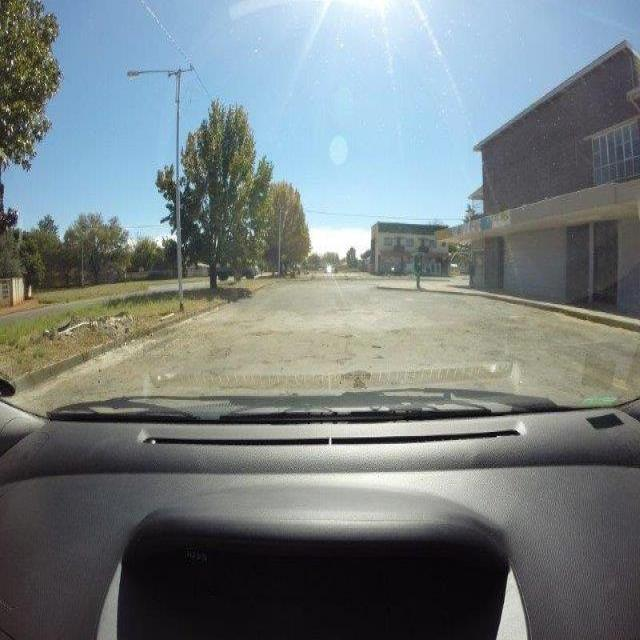jalan retak: (236, 323, 292, 344), (340, 328, 359, 364)
lubang: (333, 368, 374, 393), (369, 342, 387, 362)
